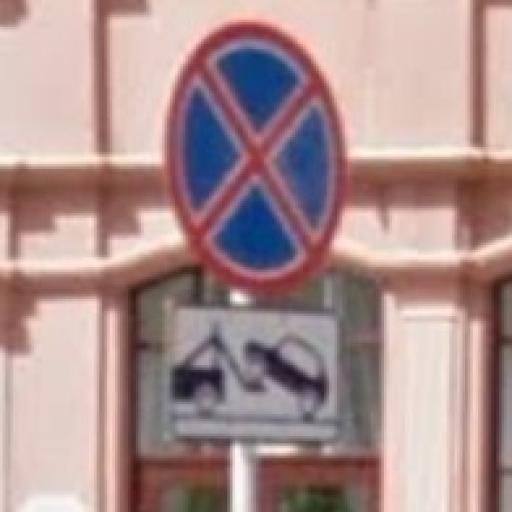traffic_sign: (166, 23, 351, 295)
